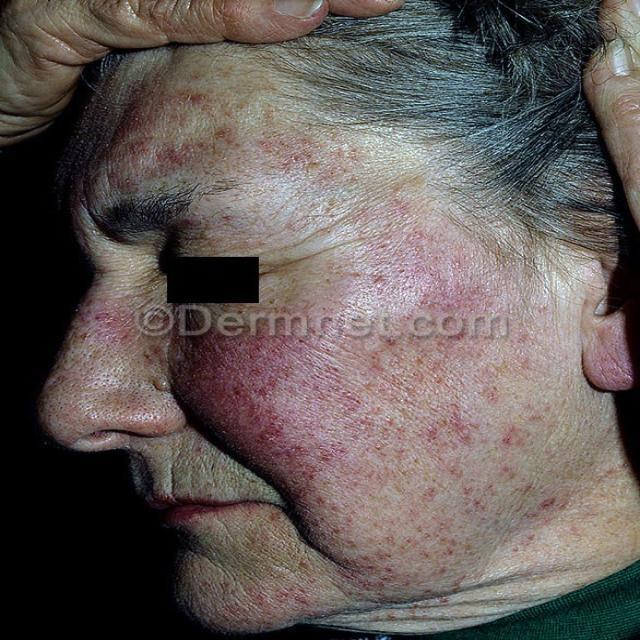Rosacea: (178, 286, 536, 556), (108, 120, 357, 190), (197, 581, 314, 631), (76, 299, 159, 361)
